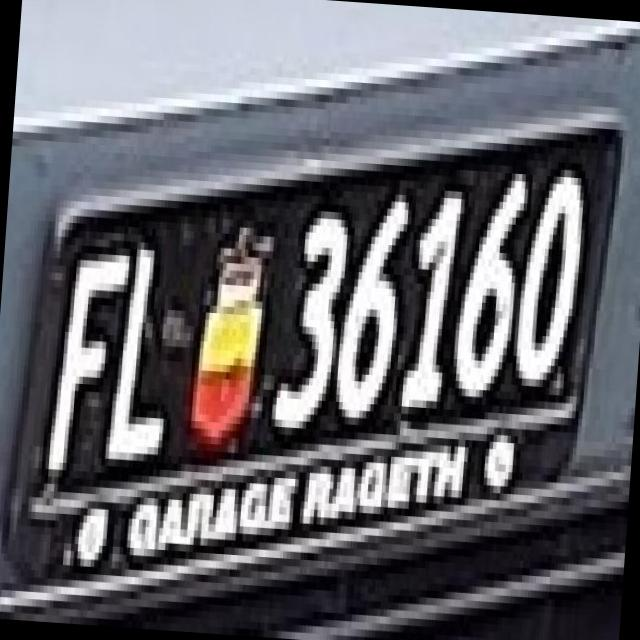0: (500, 144, 598, 390)
1: (384, 158, 471, 410)
3: (264, 186, 350, 430)
6: (444, 140, 534, 392), (331, 169, 414, 413)
F: (34, 221, 135, 474)
L: (95, 218, 184, 456)
